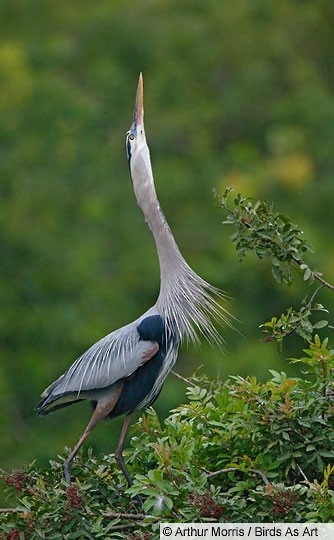heron: (40, 65, 227, 498)
